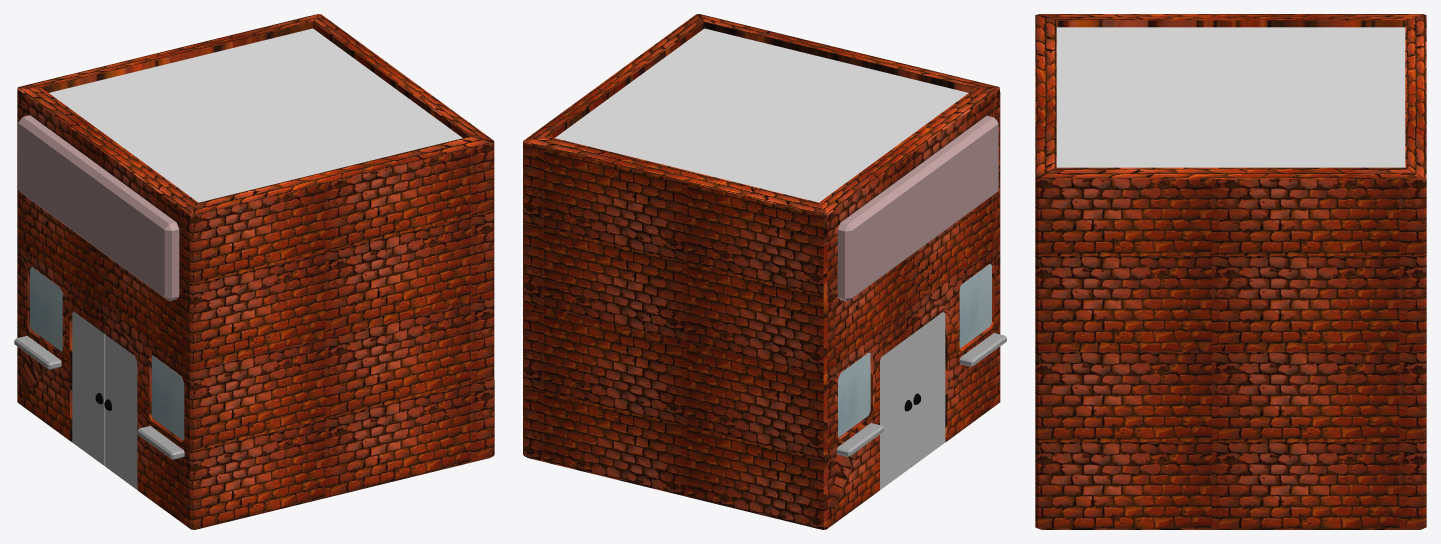
Rendered from building 1.fbx.
The picture shows the model from 3 angles, left to right: view 1: azimuth 30°, elevation 25°; view 2: azimuth 150°, elevation 25°; view 3: azimuth 270°, elevation 25°; orthographic projection. The views are drawn at different scales.
Parts seen in each view (by area): view 1: brick, ganpan, door2, door1, window2, window1, batchim1, batchim; view 2: brick, ganpan, door1, door2, window2, window1, batchim1, batchim; view 3: brick.
Boxes of the visible parts, x1,y1,x2,y2 form: brick: [17, 14, 494, 529]; ganpan: [18, 115, 179, 301]; door2: [71, 311, 105, 466]; door1: [105, 334, 137, 490]; window2: [151, 355, 184, 440]; window1: [30, 267, 63, 351]; batchim1: [14, 335, 61, 369]; batchim: [137, 426, 184, 459]; brick: [523, 14, 1000, 529]; ganpan: [837, 115, 998, 301]; door1: [911, 311, 945, 467]; door2: [880, 335, 910, 489]; window2: [959, 263, 991, 348]; window1: [838, 352, 870, 437]; batchim1: [836, 423, 883, 456]; batchim: [959, 333, 1006, 366]; brick: [1035, 14, 1426, 529].
Bounding box in the file's own units: 7.34 × 7.05 × 7.04.
